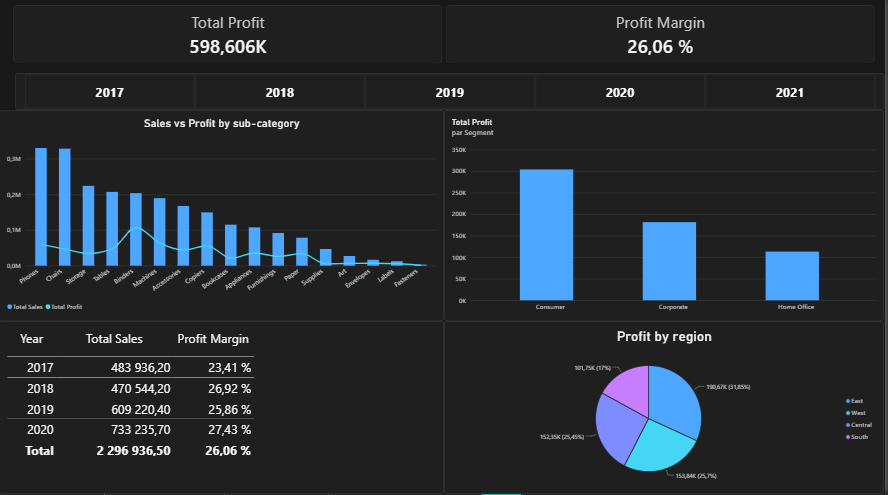

The dashboard page shown, as its layout file describes it:
{"tool":"powerbi","page":{"name":" Profitability","canvas":[1920,1080],"ordinal":1},"visuals":[{"type":"cardVisual","fields":{"Data":["Region.Total Profit","Region.Profit Margin"]},"box":[10.8,0,1908.4,167],"z":0},{"type":"lineClusteredColumnComboChart","title":" Sales vs Profit by sub-category","fields":{"Category":["Product.Sub-Category"],"Y":["Region.Total Sales"],"Y2":["Region.Total Profit"]},"box":[0,247.2,965.1,457.6],"z":1},{"type":"pieChart","title":" Profit by region","fields":{"Category":["Region.Region"],"Y":["Region.Total Profit"]},"box":[965.1,704.8,954.2,375.2],"z":2},{"type":"tableEx","fields":{"Values":["Date.Year","Region.Total Sales","Region.Profit Margin"]},"box":[0,704.8,965.1,375.2],"z":4},{"type":"slicer","fields":{"Values":["Date.Year"]},"box":[34.7,167,1884.6,80.2],"z":5},{"type":"clusteredColumnChart","fields":{"Category":["Customer.Segment"],"Y":["Region.Total Profit"]},"box":[965.1,247.2,954.2,457.6],"z":6}]}

Visuals, with their boxes in screenshot pixels (x1, y1, x2, y2), scaled from the page's 1920x1080 canvas onto the 888x495 screenshot:
cardVisual - Region.Total Profit x Region.Profit Margin: pyautogui.locateOnScreen(5, 0, 887, 77)
" Sales vs Profit by sub-category" lineClusteredColumnComboChart: pyautogui.locateOnScreen(0, 113, 446, 323)
" Profit by region" pieChart: pyautogui.locateOnScreen(446, 323, 887, 494)
tableEx - Date.Year x Region.Total Sales: pyautogui.locateOnScreen(0, 323, 446, 494)
slicer - Date.Year: pyautogui.locateOnScreen(16, 77, 887, 113)
clusteredColumnChart - Customer.Segment x Region.Total Profit: pyautogui.locateOnScreen(446, 113, 887, 323)
